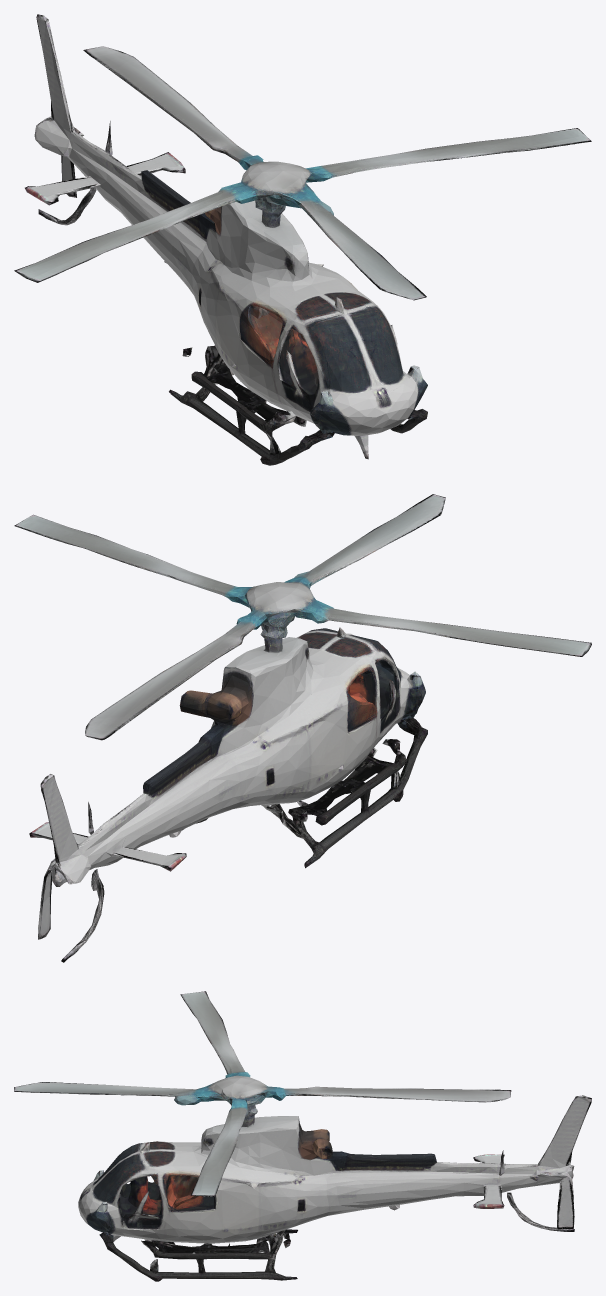
Rendered from Copilot3D-9e39d15a-8880-4bba-afe4-31090efcdbca.glb.
The picture shows the model from 3 angles, top to bottom: view 1: azimuth 30°, elevation 25°; view 2: azimuth 150°, elevation 25°; view 3: azimuth 270°, elevation 25°; orthographic projection. The views are drawn at different scales.
Parts seen in each view (by area): view 1: world; view 2: world; view 3: world.
Boxes of the visible parts, left/top/right/bottom form: world: left=14, top=14, right=591, bottom=465; world: left=14, top=494, right=591, bottom=962; world: left=14, top=991, right=591, bottom=1281.
Size of the model in its own units: 0.8355 by 0.3342 by 0.9989.
1 material, 1 textured.
